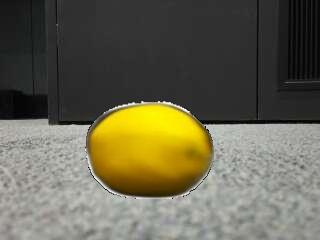lemon: (88, 103, 211, 196)
